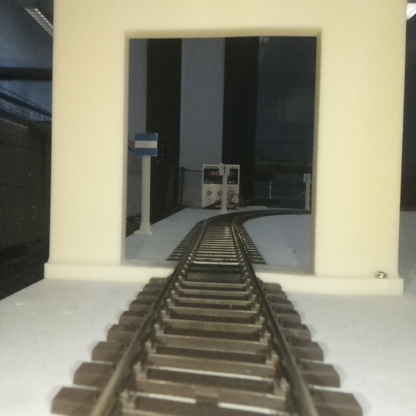start: (134, 131, 156, 232)
white-info-1: (219, 164, 229, 212)
